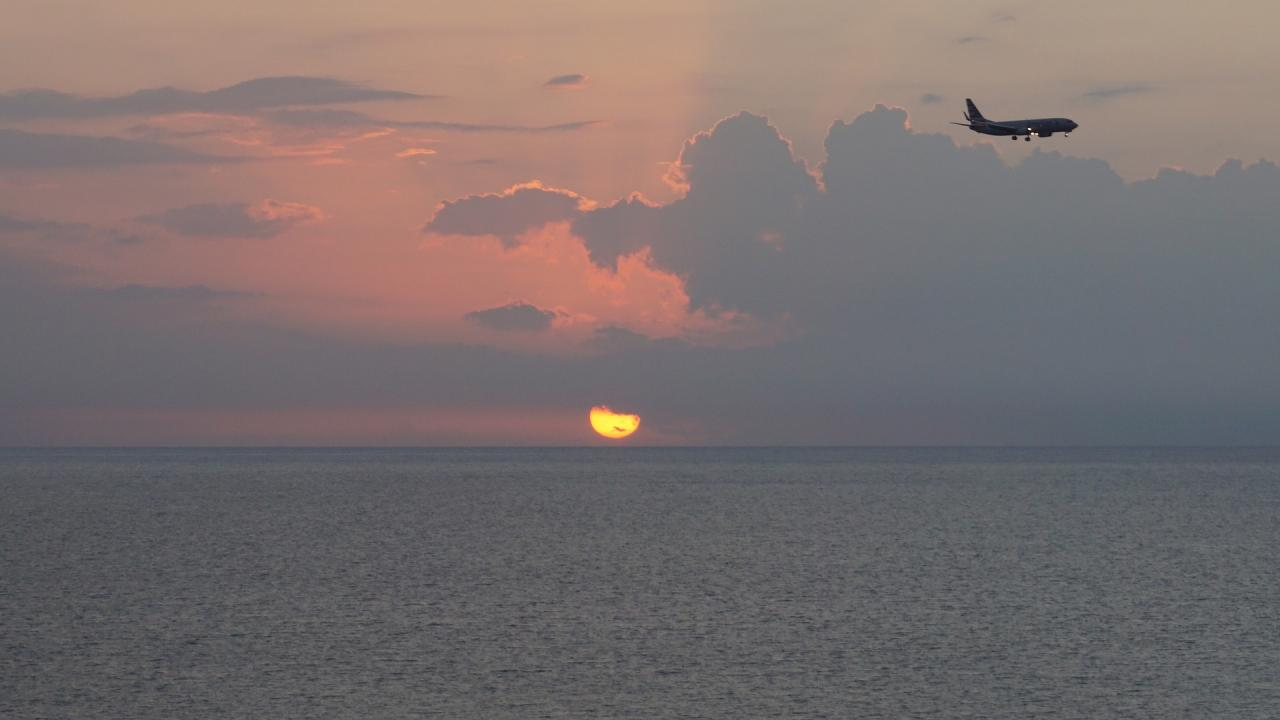Airplane: (939, 87, 1086, 152)
